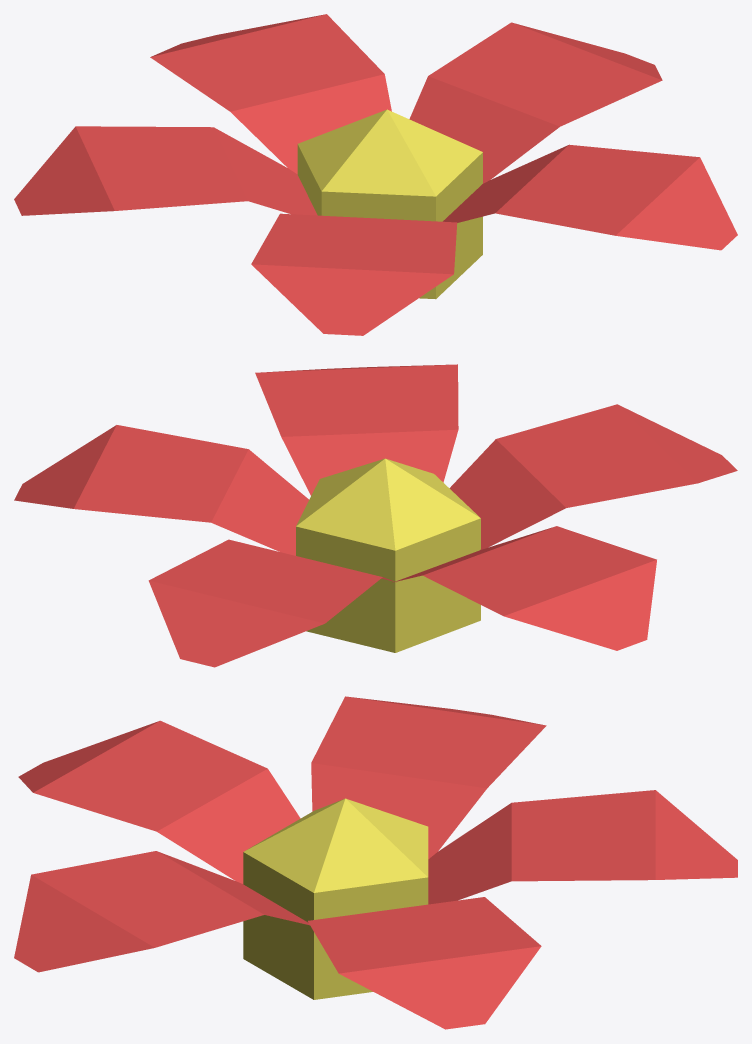
File: Flower_Red_3.fbx
The picture shows the model from 3 angles, top to bottom: view 1: azimuth 30°, elevation 25°; view 2: azimuth 150°, elevation 25°; view 3: azimuth 270°, elevation 25°; orthographic projection. The views are drawn at different scales.
Visible parts, largest first — view 1: Flower_Red_3; view 2: Flower_Red_3; view 3: Flower_Red_3.
Part boxes in pixels (x1,y1,x2,y2): Flower_Red_3: (14,14,737,335); Flower_Red_3: (14,364,737,667); Flower_Red_3: (14,696,737,1029).
Size of the model in its own units: 34.6 by 8.08 by 33.04.
